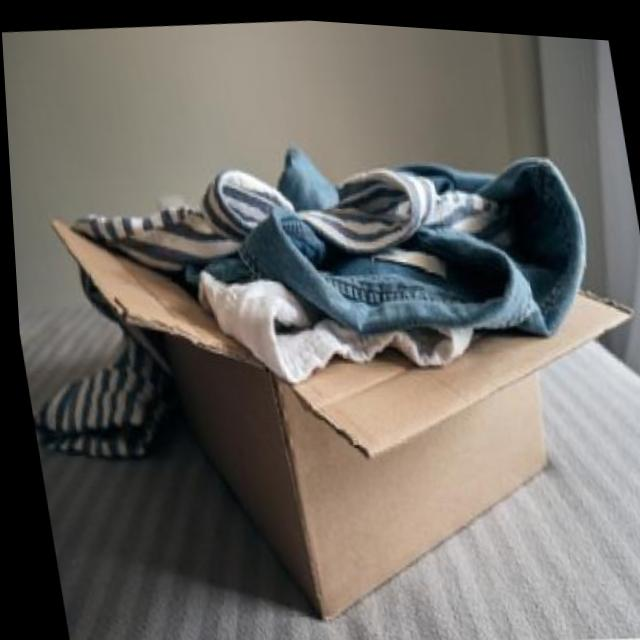box: (23, 83, 640, 640)
